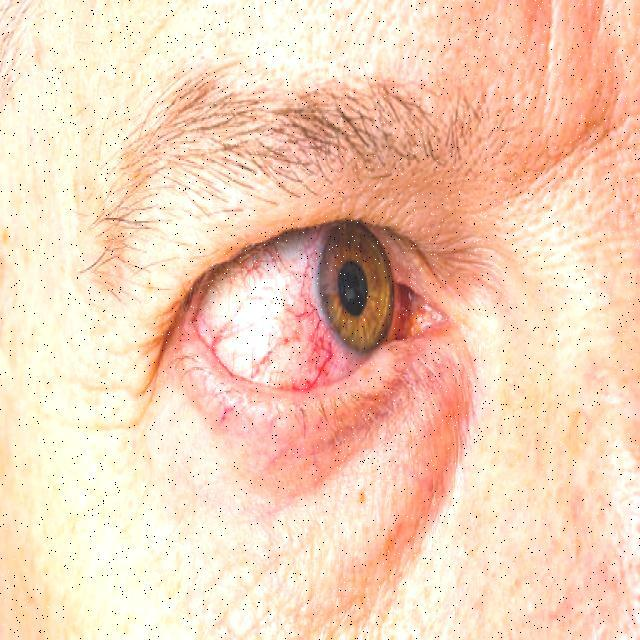Conjunctivitis: (178, 253, 440, 408)
